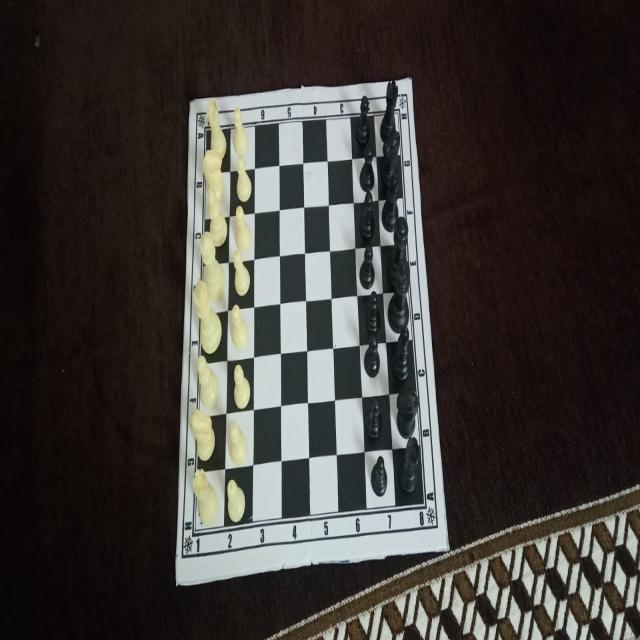corners: (172, 570, 184, 594), (442, 538, 452, 560), (405, 71, 415, 90), (187, 96, 196, 112)
